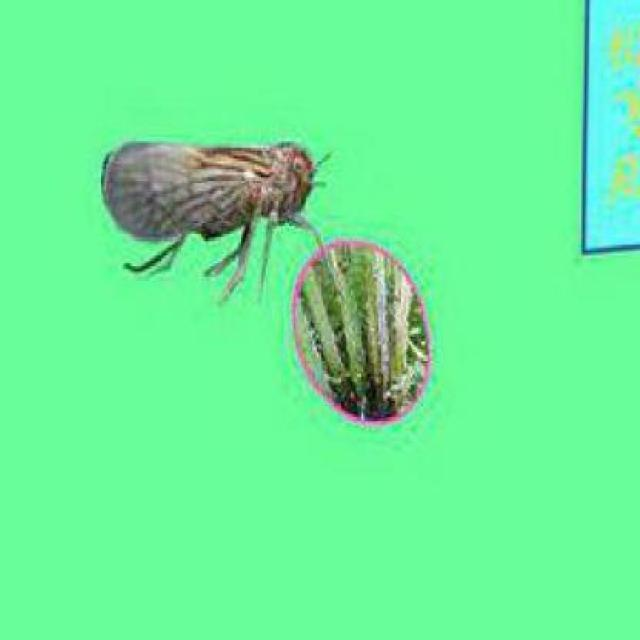brown-planthopper: (98, 128, 322, 250)
